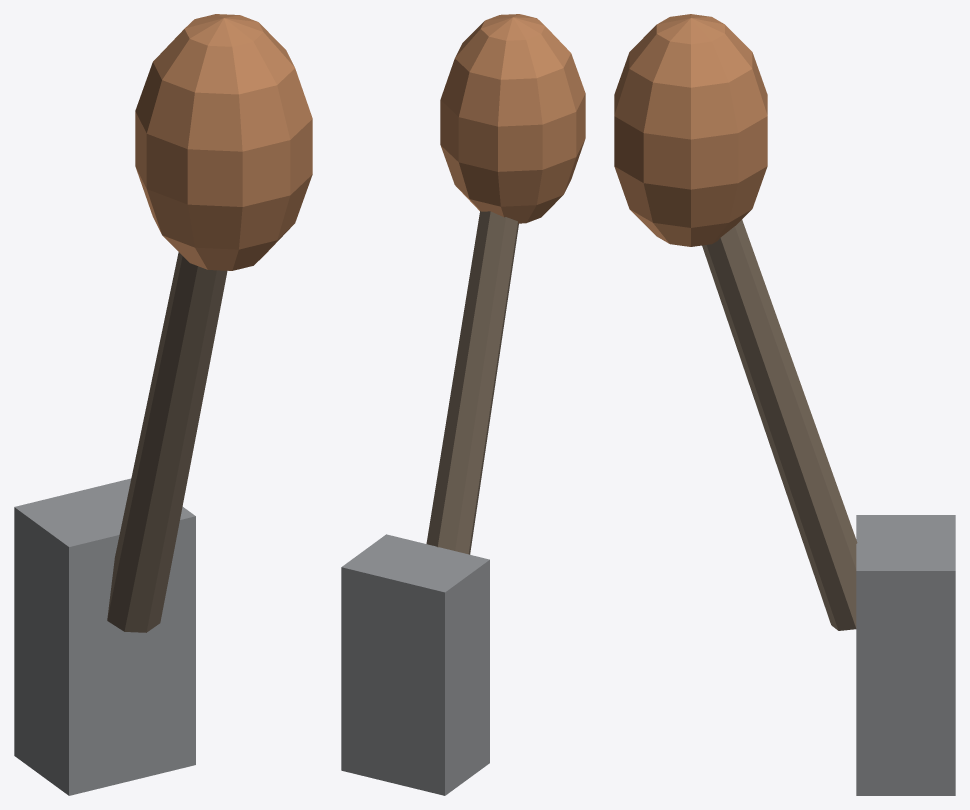
Rendered from Torch.fbx.
3 views of the same model, side by side, from view 1: azimuth 30°, elevation 25°; view 2: azimuth 150°, elevation 25°; view 3: azimuth 270°, elevation 25° (orthographic). The views are drawn at different scales.
Visible parts, largest first — view 1: Torch; view 2: Torch; view 3: Torch.
Part boxes in pixels (box(x1,y1,x2,y2)): Torch: box(14, 14, 312, 795); Torch: box(341, 14, 585, 795); Torch: box(614, 14, 955, 795).
Bounding box in the file's own units: 19.5 × 100 × 41.27.
